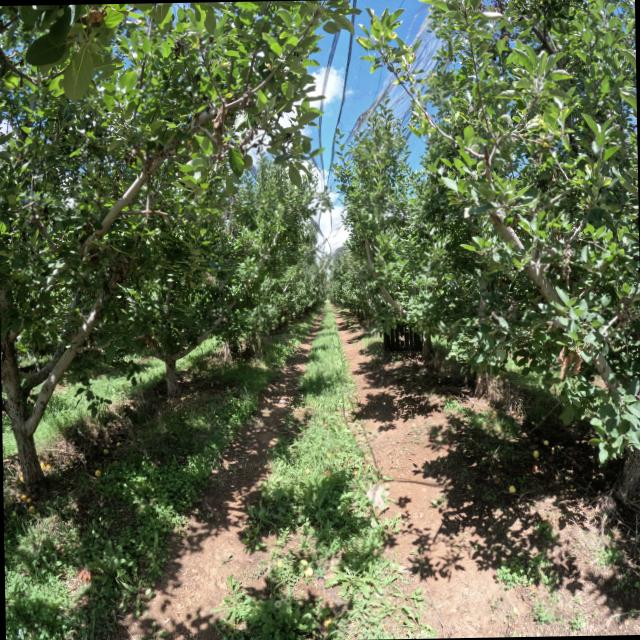-FireBlight-: (205, 107, 234, 158), (557, 345, 582, 380), (77, 7, 108, 28)
